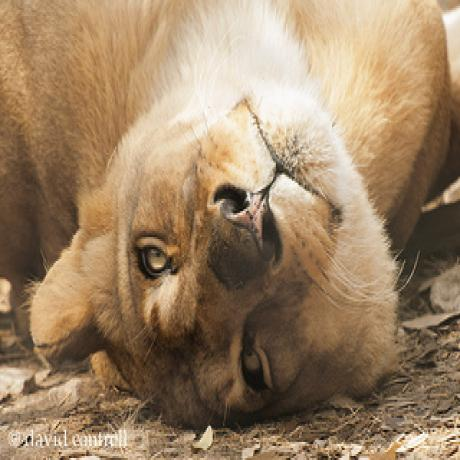Lion: (0, 0, 460, 429)
